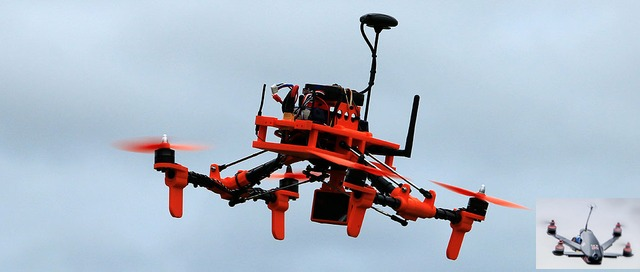drone: (110, 12, 527, 261), (536, 198, 640, 269)
